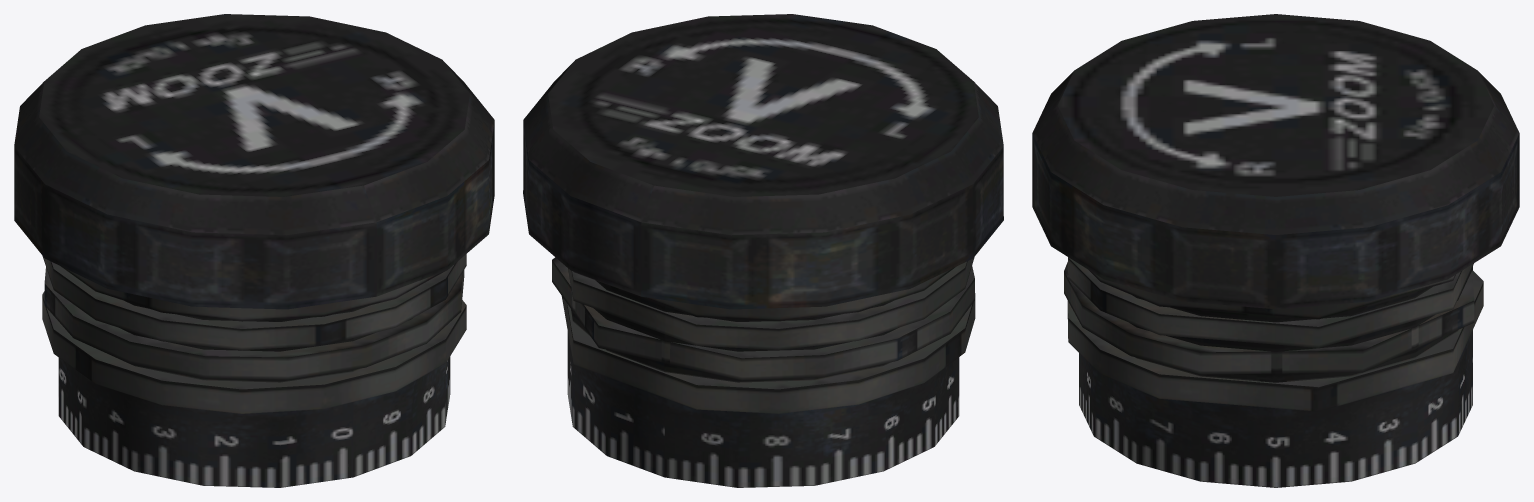
Rendered from t6_attach_optic_vzoom_ballista_view_LOD0.obj.
The picture shows the model from 3 angles, left to right: view 1: azimuth 30°, elevation 25°; view 2: azimuth 150°, elevation 25°; view 3: azimuth 270°, elevation 25°; orthographic projection.
Visible parts, largest first — view 1: mtl_t6_attach_optic_vzoom_ballista; view 2: mtl_t6_attach_optic_vzoom_ballista; view 3: mtl_t6_attach_optic_vzoom_ballista.
Part boxes in pixels (bbox=[...]): mtl_t6_attach_optic_vzoom_ballista: bbox=[14, 14, 494, 487]; mtl_t6_attach_optic_vzoom_ballista: bbox=[523, 14, 1003, 487]; mtl_t6_attach_optic_vzoom_ballista: bbox=[1032, 14, 1519, 487].
Size of the model in its own units: 4.22 by 2.88 by 4.25.
